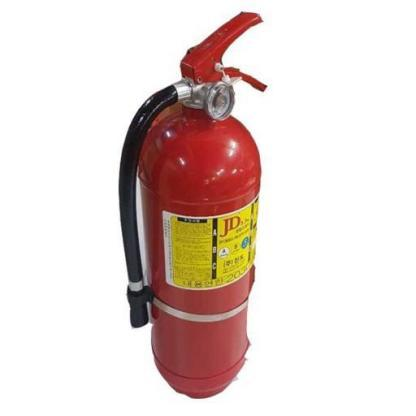fire-extinguisher: (119, 12, 265, 401)
